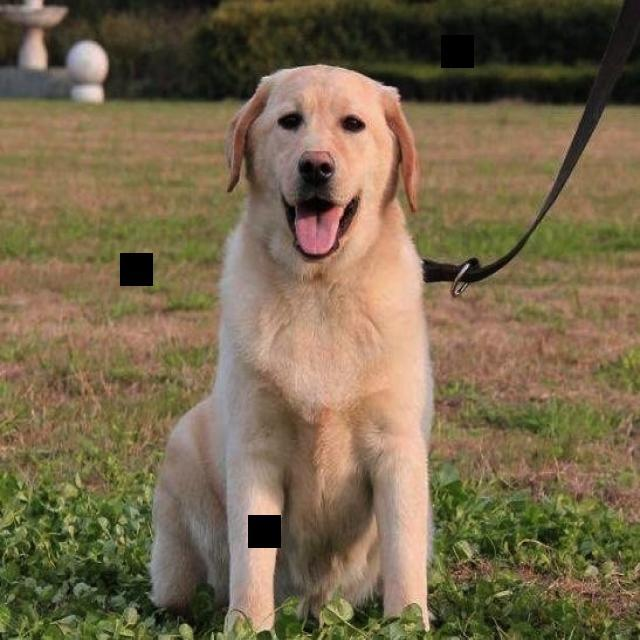adult_dog: (144, 65, 440, 640)
